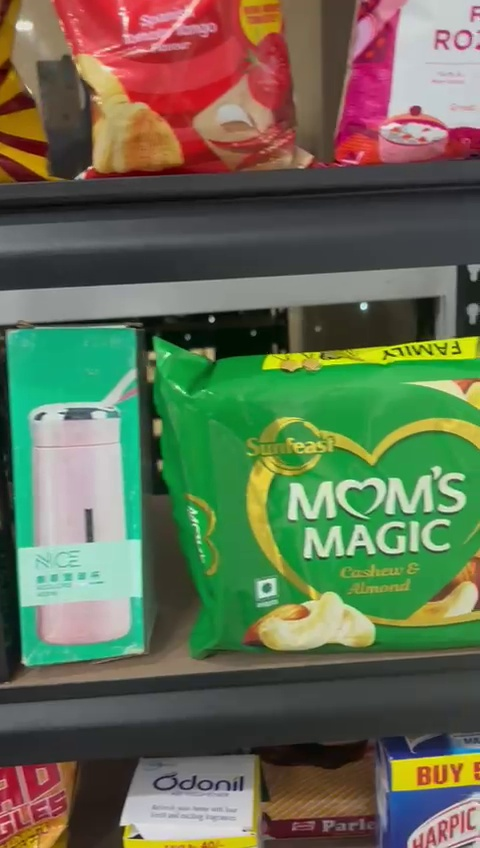Bottle: (10, 322, 150, 658)
